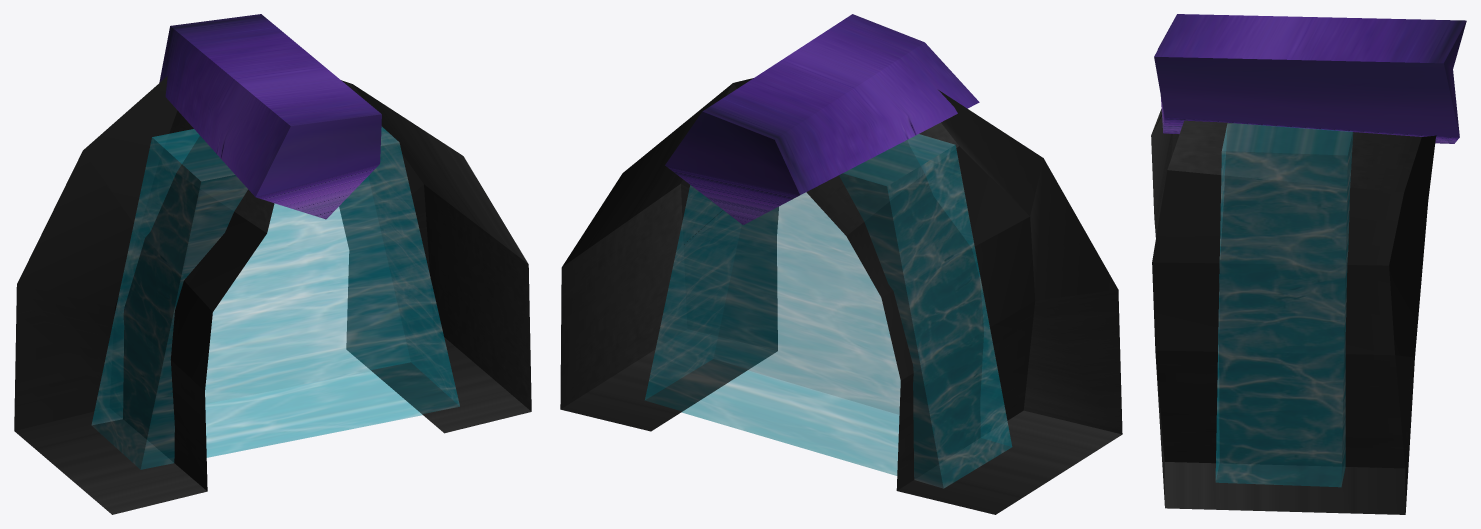
The model's file is Portal.glb.
3 renders of one model, left to right at view 1: azimuth 30°, elevation 25°; view 2: azimuth 150°, elevation 25°; view 3: azimuth 270°, elevation 25°, orthographic. The views are drawn at different scales.
Visible parts, largest first — view 1: Portal; view 2: Portal; view 3: Portal.
Part boxes in pixels (box(x1,y1,x2,y2)): Portal: box(14, 14, 531, 514); Portal: box(560, 14, 1122, 514); Portal: box(1151, 14, 1466, 514).
Size of the model in its own units: 4.98 by 3.73 by 2.88.
Materials: 3 (3 with a texture image).
